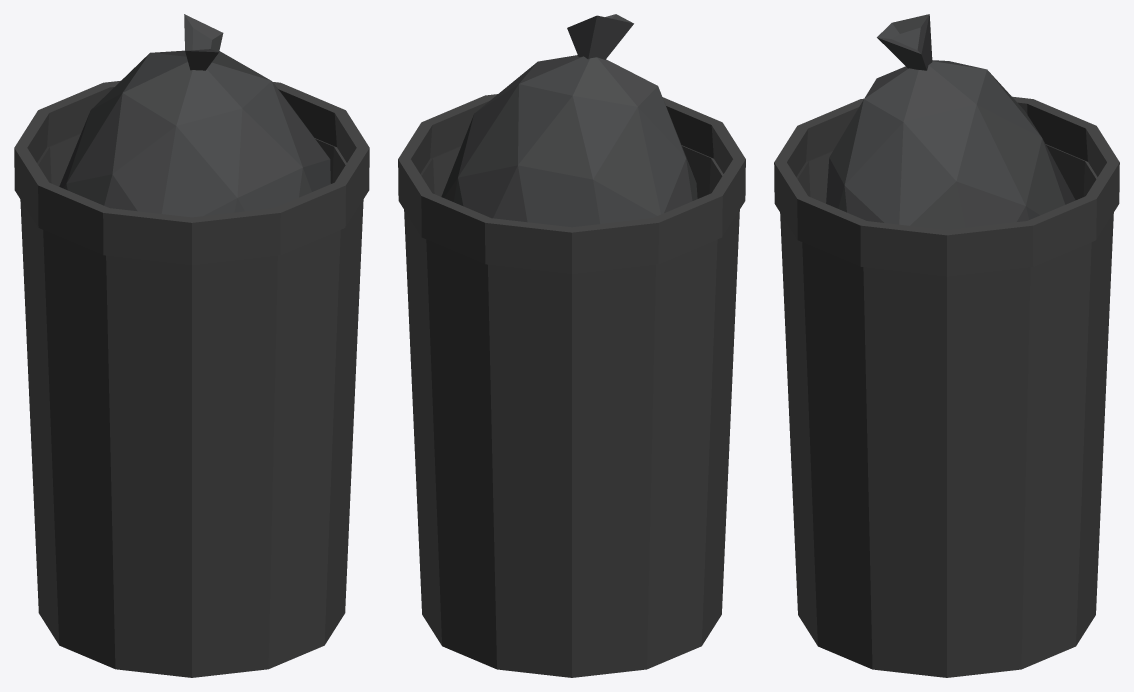
Rendered from SM_trashbin_03.fbx.
3 renders of one model, left to right at view 1: azimuth 30°, elevation 25°; view 2: azimuth 150°, elevation 25°; view 3: azimuth 270°, elevation 25°, orthographic. The views are drawn at different scales.
Parts seen in each view (by area): view 1: Cylinder028; view 2: Cylinder028; view 3: Cylinder028.
Boxes of the visible parts, x1=… form: Cylinder028: x1=14, y1=14, x2=369, y2=677; Cylinder028: x1=398, y1=14, x2=745, y2=677; Cylinder028: x1=774, y1=14, x2=1119, y2=677.
Size of the model in its own units: 22.79 by 43.13 by 22.79.
